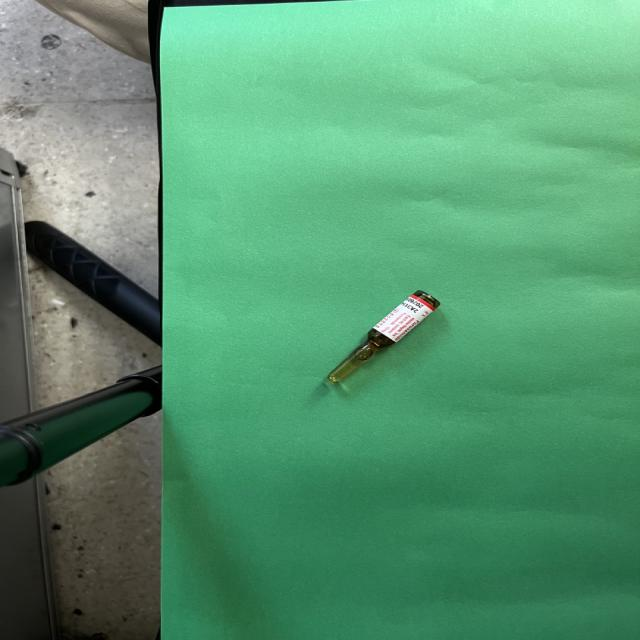Ampoules: (327, 290, 439, 383)
